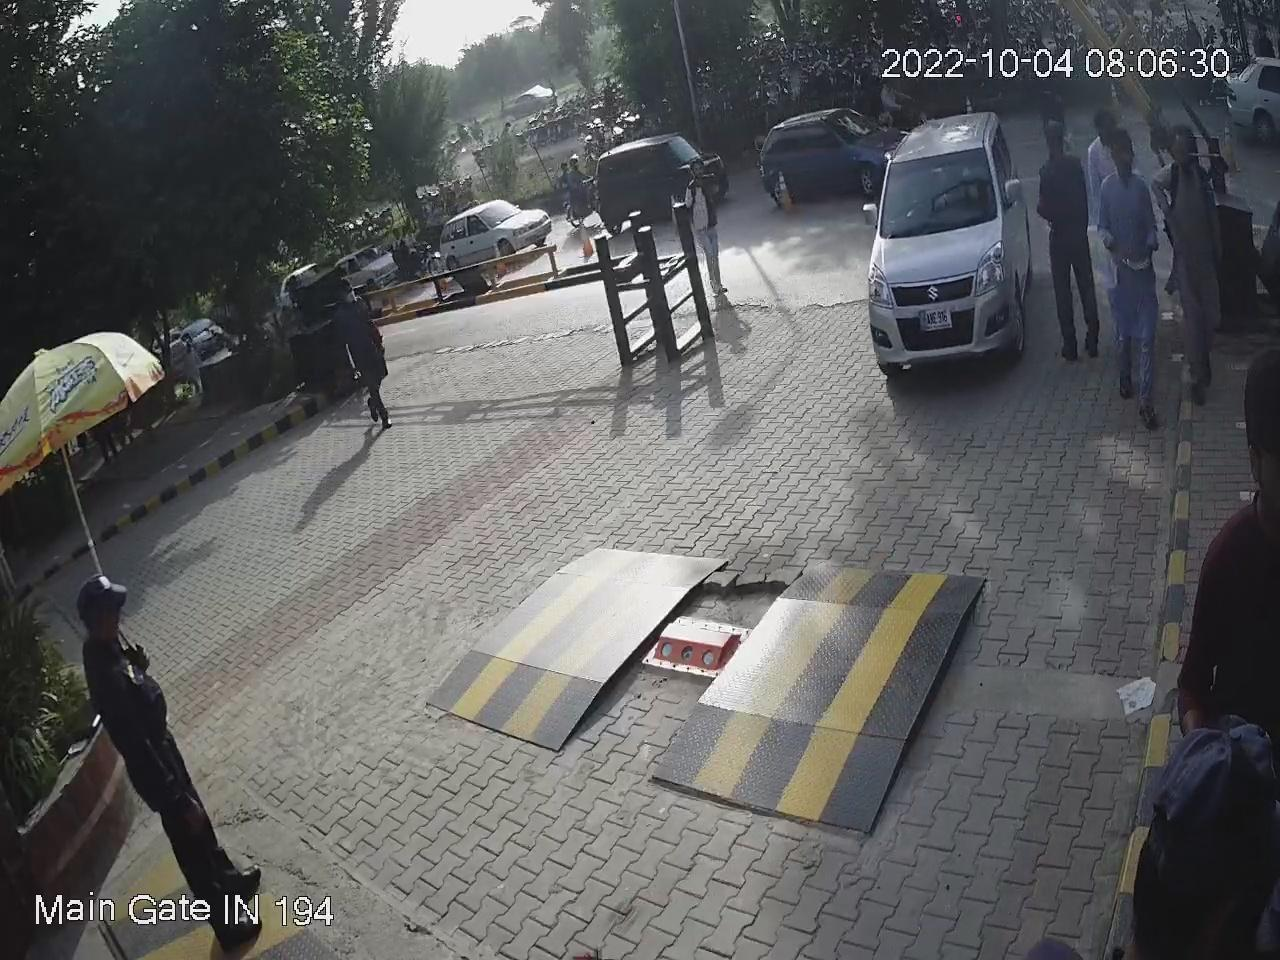windshield: (871, 130, 1000, 245)
